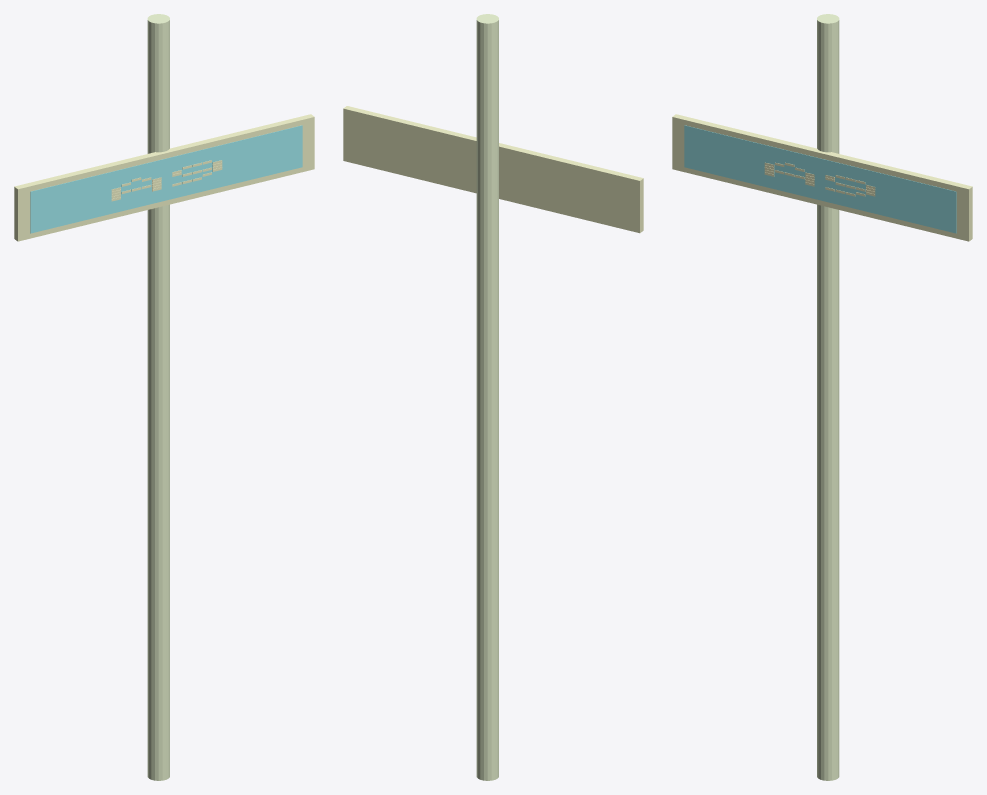
The model's file is sign_route_a9_shield.glb.
The picture shows the model from 3 angles, left to right: view 1: azimuth 30°, elevation 25°; view 2: azimuth 150°, elevation 25°; view 3: azimuth 330°, elevation 25°; orthographic projection.
Visible parts, largest first — view 1: pole, layer_1_00, plate_base_00; view 2: pole, plate_base_00; view 3: pole, layer_1_00, plate_base_00.
Boxes of the visible parts, bbox=[...] form: pole: bbox=[147, 14, 169, 780]; layer_1_00: bbox=[30, 125, 302, 233]; plate_base_00: bbox=[14, 114, 314, 241]; pole: bbox=[476, 14, 498, 780]; plate_base_00: bbox=[343, 106, 643, 233]; pole: bbox=[817, 14, 839, 780]; layer_1_00: bbox=[684, 125, 956, 233]; plate_base_00: bbox=[672, 114, 972, 241].
Bounding box in the file's own units: 0.9024 × 2.2 × 0.0725.
